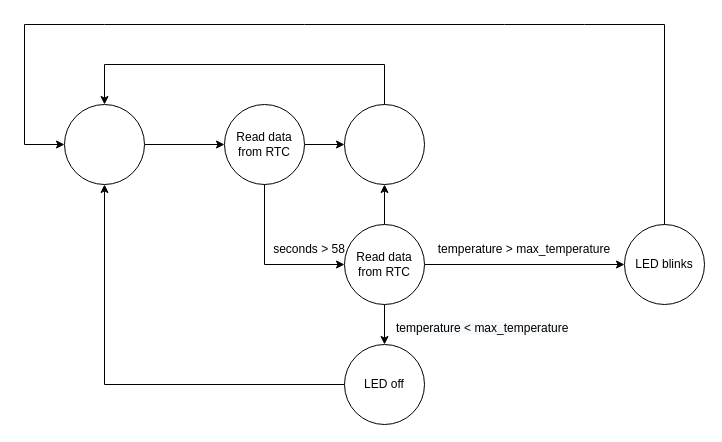
This 722x442 diagram has some shape labels left out. Here are the shapes that lost their labels. From the top down, the centre of each, then its label:
At point 104,144: "IDLE".
At point 384,144: "Update the LCD".
